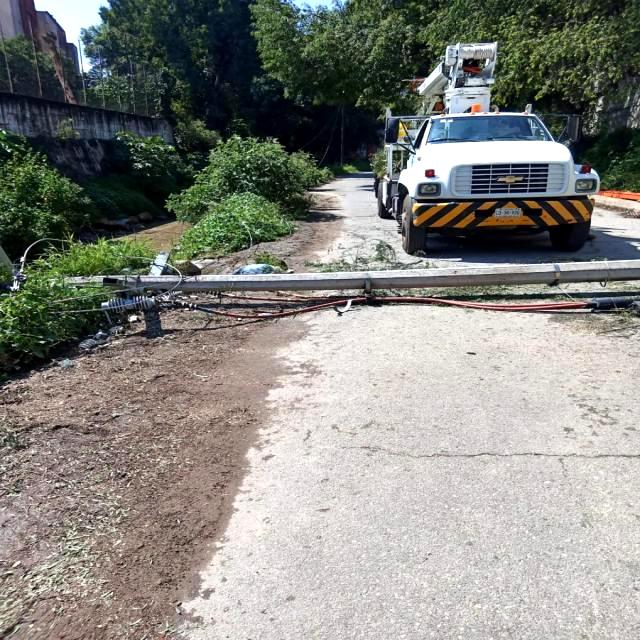Broken Pole: (1, 250, 639, 334)
